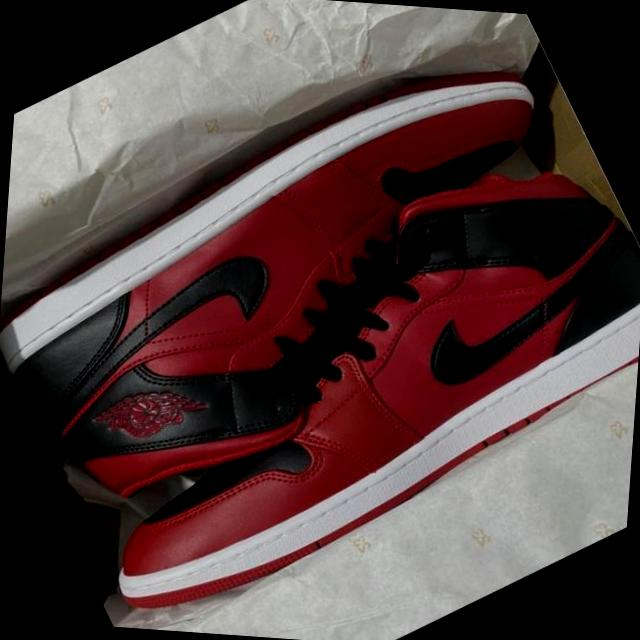nike_original_jordan: (0, 0, 639, 574), (12, 98, 640, 640)
